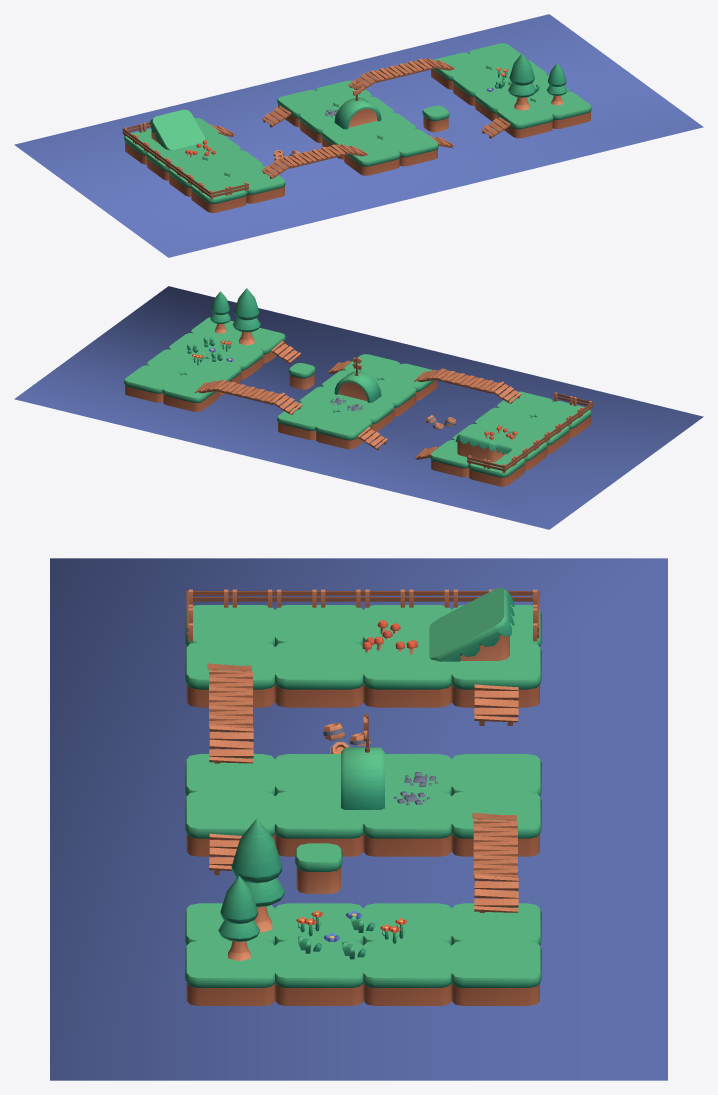
The model's file is bridges.glb.
3 renders of one model, top to bottom at view 1: azimuth 30°, elevation 25°; view 2: azimuth 150°, elevation 25°; view 3: azimuth 270°, elevation 25°, orthographic. The views are drawn at different scales.
Parts seen in each view (by area): view 1: Plane, block-grass-overhang-large-slope-steep.001, block-grass-large-tall.016, block-grass-large-tall.004, block-grass-large-tall.008, block-grass-large-tall.024, block-grass-large-tall.012, block-grass-large-tall.020, block-grass-large-tall.002, block-grass-large-tall.013, tree-pine.002, block-grass-curve.001 (+14 smaller); view 2: Plane, block-grass-large-tall.013, block-grass-large-tall.001, block-grass-large-tall.009, block-grass-large-tall.005, block-grass-large-tall.021, block-grass-large-tall.003, tree-pine.002, block-grass-large-tall.014, block-grass-curve.001, block-grass-large-tall.023, block-grass-large-tall.024 (+17 smaller); view 3: Plane, block-grass-large-tall.009, block-grass-large-tall.019, block-grass-large-tall.010, block-grass-large-tall.012, block-grass-large-tall.011, block-grass-large-tall.006, block-grass-large-tall.018, block-grass-overhang-large-slope-steep.001, block-grass-large-tall.007, block-grass-large-tall.008, block-grass-large-tall.005 (+28 smaller).
Part boxes in pixels (<box>): Plane: <box>14,14,703,257</box>; block-grass-overhang-large-slope-steep.001: <box>149,109,205,150</box>; block-grass-large-tall.016: <box>344,138,400,175</box>; block-grass-large-tall.004: <box>496,101,553,138</box>; block-grass-large-tall.008: <box>382,129,438,166</box>; block-grass-large-tall.024: <box>190,175,247,212</box>; block-grass-large-tall.012: <box>534,91,591,128</box>; block-grass-large-tall.020: <box>229,166,285,203</box>; block-grass-large-tall.002: <box>452,68,508,105</box>; block-grass-large-tall.013: <box>277,90,333,127</box>; tree-pine.002: <box>508,53,535,110</box>; block-grass-curve.001: <box>334,97,381,129</box>; Plane: <box>14,286,703,529</box>; block-grass-large-tall.013: <box>315,412,372,449</box>; block-grass-large-tall.001: <box>162,374,218,411</box>; block-grass-large-tall.009: <box>124,365,180,402</box>; block-grass-large-tall.005: <box>277,402,333,439</box>; block-grass-large-tall.021: <box>468,453,525,486</box>; block-grass-large-tall.003: <box>206,342,263,379</box>; tree-pine.002: <box>232,288,260,345</box>; block-grass-large-tall.014: <box>337,398,394,432</box>; block-grass-curve.001: <box>334,371,381,402</box>; block-grass-large-tall.023: <box>513,417,569,454</box>; block-grass-large-tall.024: <box>535,401,591,438</box>; Plane: <box>50,558,667,1080</box>; block-grass-large-tall.009: <box>451,940,541,1005</box>; block-grass-large-tall.019: <box>275,642,363,707</box>; block-grass-large-tall.010: <box>363,940,451,1005</box>; block-grass-large-tall.012: <box>185,940,274,1005</box>; block-grass-large-tall.011: <box>275,940,363,1005</box>; block-grass-large-tall.006: <box>363,791,451,856</box>; block-grass-large-tall.018: <box>363,642,451,707</box>; block-grass-overhang-large-slope-steep.001: <box>429,587,514,661</box>; block-grass-large-tall.007: <box>275,791,363,856</box>; block-grass-large-tall.008: <box>185,791,274,856</box>; block-grass-large-tall.005: <box>451,791,541,856</box>.
Size of the model in its own units: 28 by 4.69 by 14.
16 materials, 15 textured.
